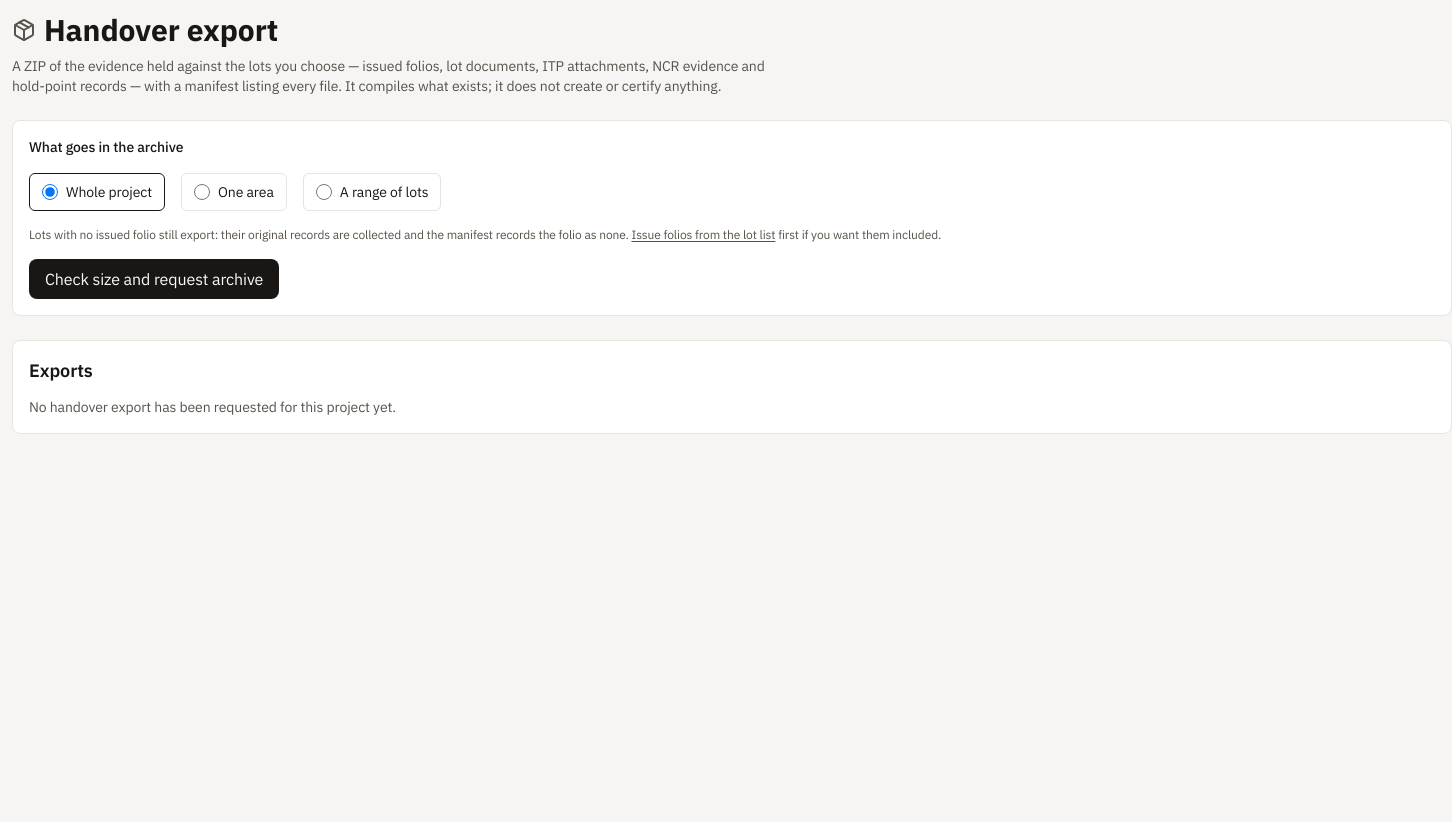
handover export preflight › states the estimate, the unmeasured count and the assumption when the scope fits
The image size is (1452, 822).
Click the button "Check size and request archive": (154, 279) top-left (29, 259), bottom-right (279, 299)
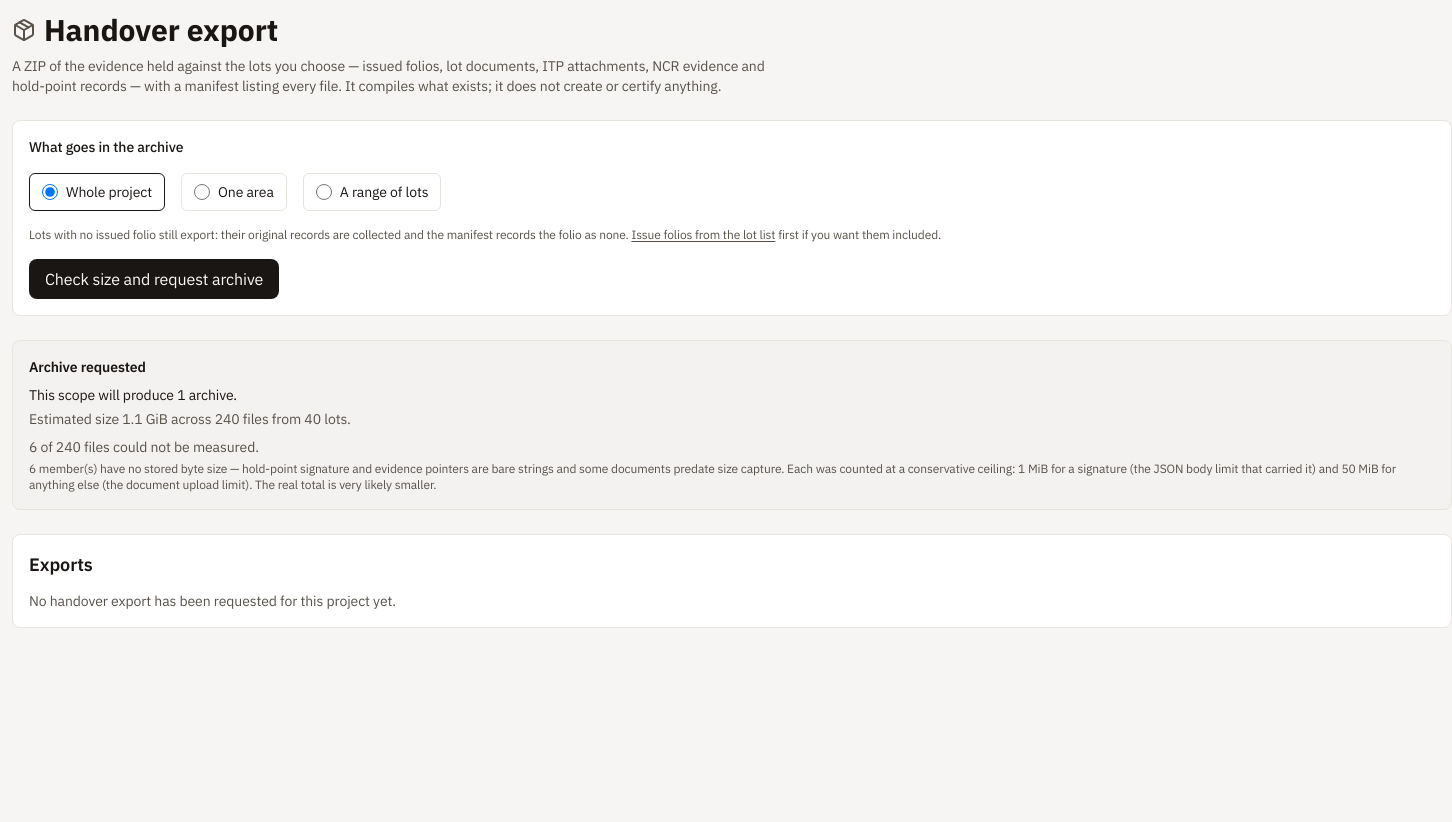
expect the text "This scope will produce 1 archive." is shown: met, box top-left (29, 386), bottom-right (237, 404)
expect the text "Estimated size 1.1 GiB across 240 files from 40 lots." is shown: met, box top-left (29, 410), bottom-right (351, 428)
expect the text "6 of 240 files could not be measured." is shown: met, box top-left (29, 438), bottom-right (259, 456)
